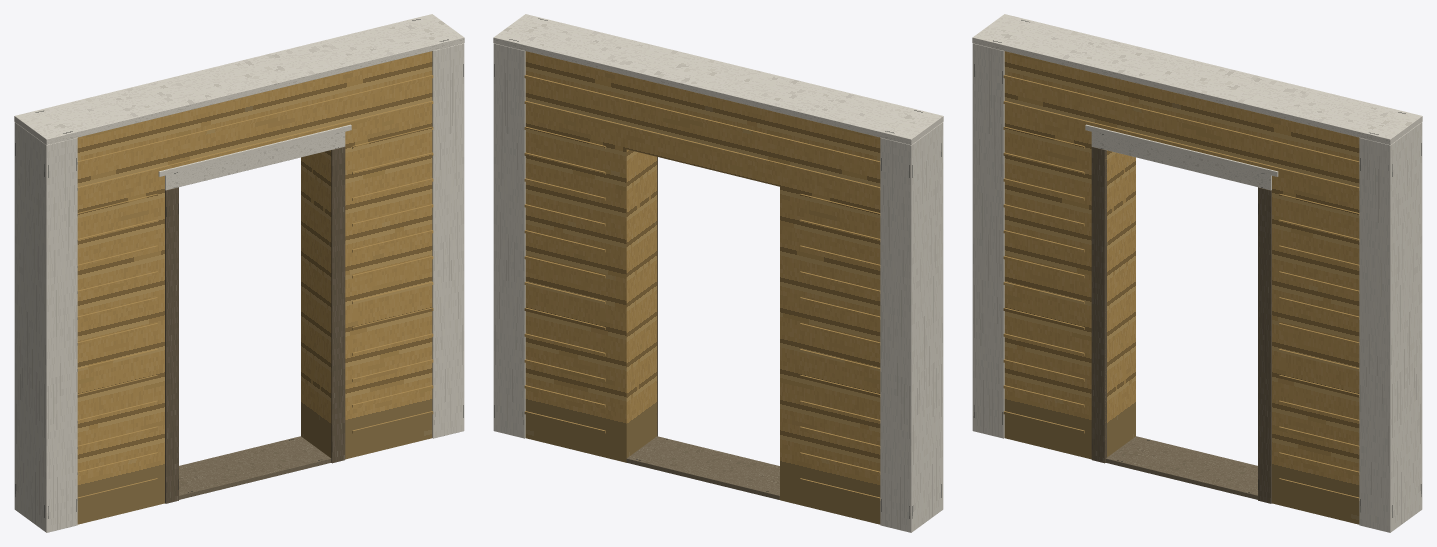
File: house_03_wall_doorway.glb
The picture shows the model from 3 angles, left to right: view 1: azimuth 30°, elevation 25°; view 2: azimuth 150°, elevation 25°; view 3: azimuth 330°, elevation 25°; orthographic projection.
Parts seen in each view (by area): view 1: house_03_wall_doorway; view 2: house_03_wall_doorway; view 3: house_03_wall_doorway.
Part boxes in pixels (box(x1,y1,x2,y2)): house_03_wall_doorway: box(14, 14, 464, 532); house_03_wall_doorway: box(493, 14, 943, 532); house_03_wall_doorway: box(972, 14, 1422, 532).
Bounding box in the file's own units: 3 × 2.7 × 0.4.
4 materials, 4 textured.
